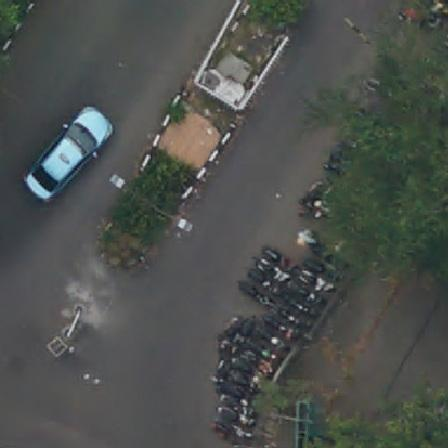Car: (30, 103, 113, 200)
Motorcycle: (306, 241, 353, 275), (296, 259, 335, 295), (262, 313, 303, 346), (295, 188, 327, 227), (214, 362, 254, 390), (256, 255, 288, 287), (215, 425, 259, 447), (241, 273, 268, 308), (292, 281, 326, 308), (210, 381, 252, 402), (245, 339, 274, 368), (281, 304, 311, 332), (259, 328, 291, 354), (252, 269, 280, 297), (262, 242, 292, 268), (220, 356, 258, 373), (209, 396, 250, 411), (290, 300, 318, 320), (223, 411, 260, 426), (236, 349, 262, 367)
